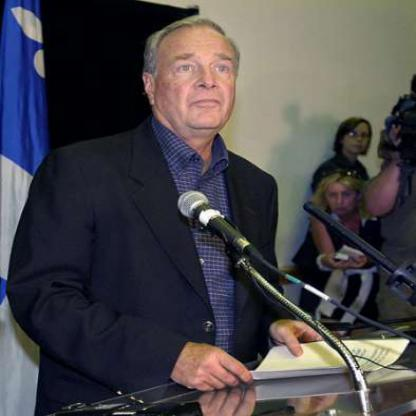face: (154, 23, 243, 136), (327, 179, 358, 217), (347, 121, 373, 155)
